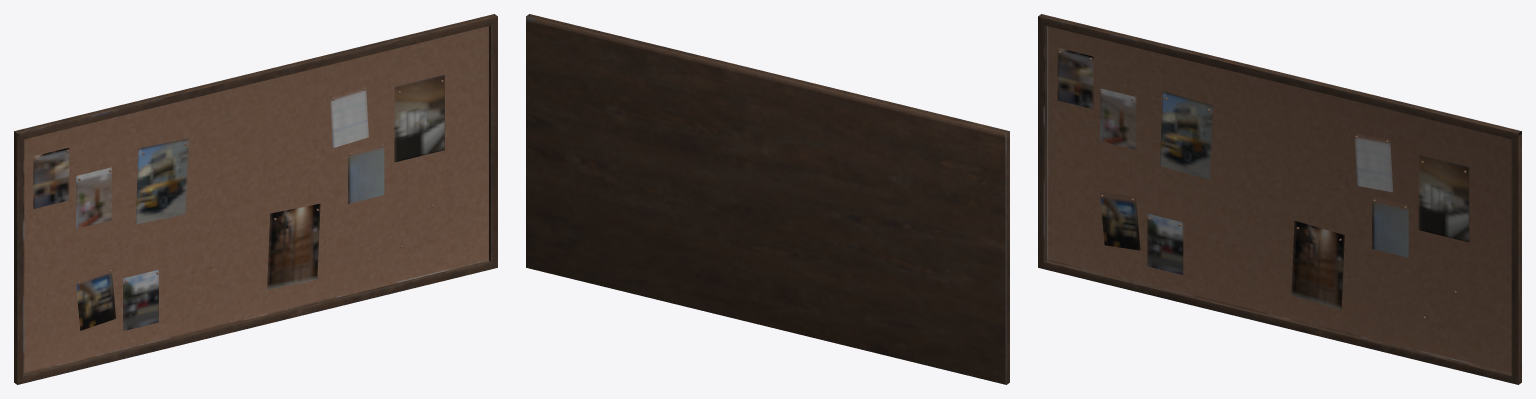
File: CorkBoard.fbx
3 renders of one model, left to right at view 1: azimuth 30°, elevation 25°; view 2: azimuth 150°, elevation 25°; view 3: azimuth 330°, elevation 25°, orthographic.
Parts seen in each view (by area): view 1: CorkBoard; view 2: CorkBoard; view 3: CorkBoard.
Boxes of the visible parts, x1,y1,x2,y2 form: CorkBoard: (14,14,497,384); CorkBoard: (526,14,1009,384); CorkBoard: (1038,14,1521,384).
Size of the model in its own units: 3.93 by 1.96 by 0.0491.
